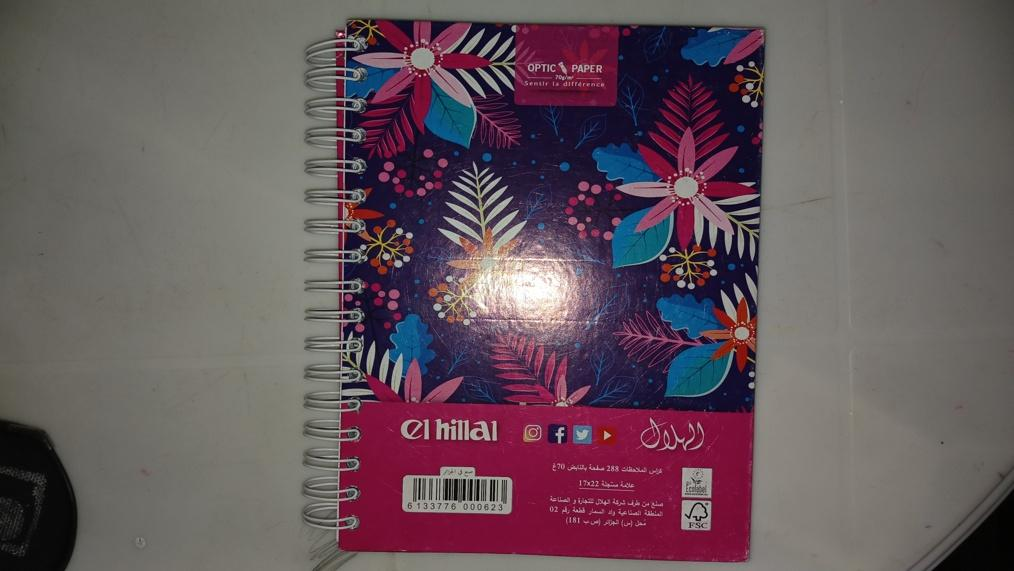notebook: (303, 24, 767, 560)
